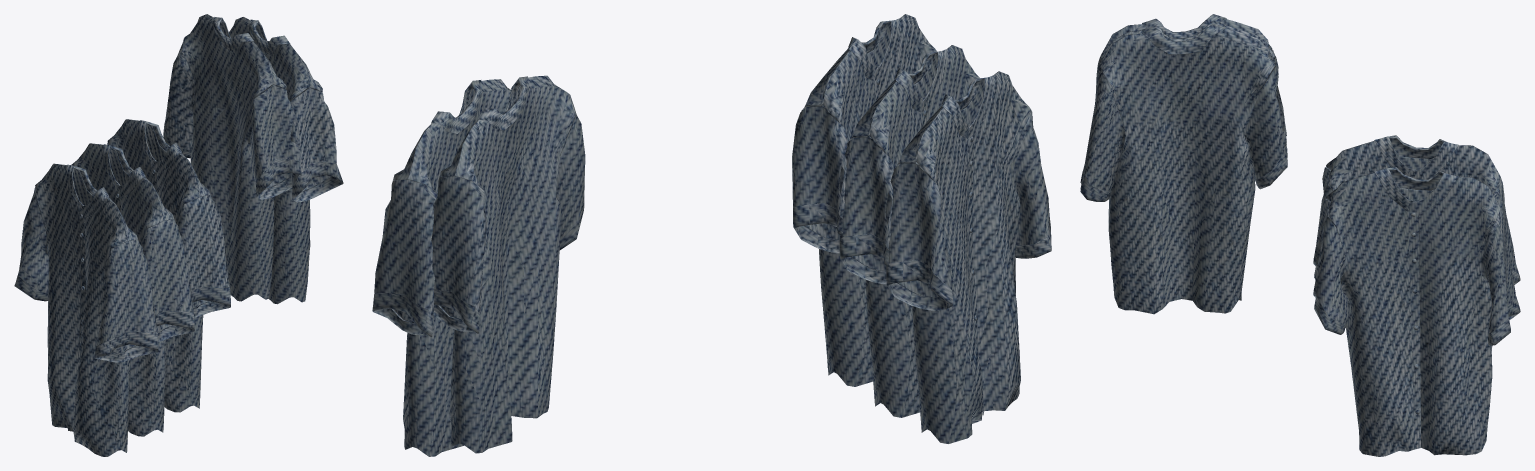
The model's file is yifu0902.fbx.
The picture shows the model from 3 angles, left to right: view 1: azimuth 30°, elevation 25°; view 2: azimuth 150°, elevation 25°; view 3: azimuth 270°, elevation 25°; orthographic projection. The views are drawn at different scales.
Parts seen in each view (by area): view 1: yifu0902; view 2: yifu0902; view 3: yifu0902.
Boxes of the visible parts, x1,y1,x2,y2 form: yifu0902: (14, 14, 343, 456); yifu0902: (372, 14, 1051, 456); yifu0902: (1080, 14, 1520, 456).
Size of the model in its own units: 125 by 97.16 by 125.
